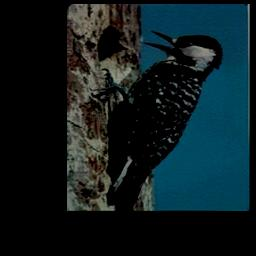Woodpecker: (90, 27, 229, 209)
